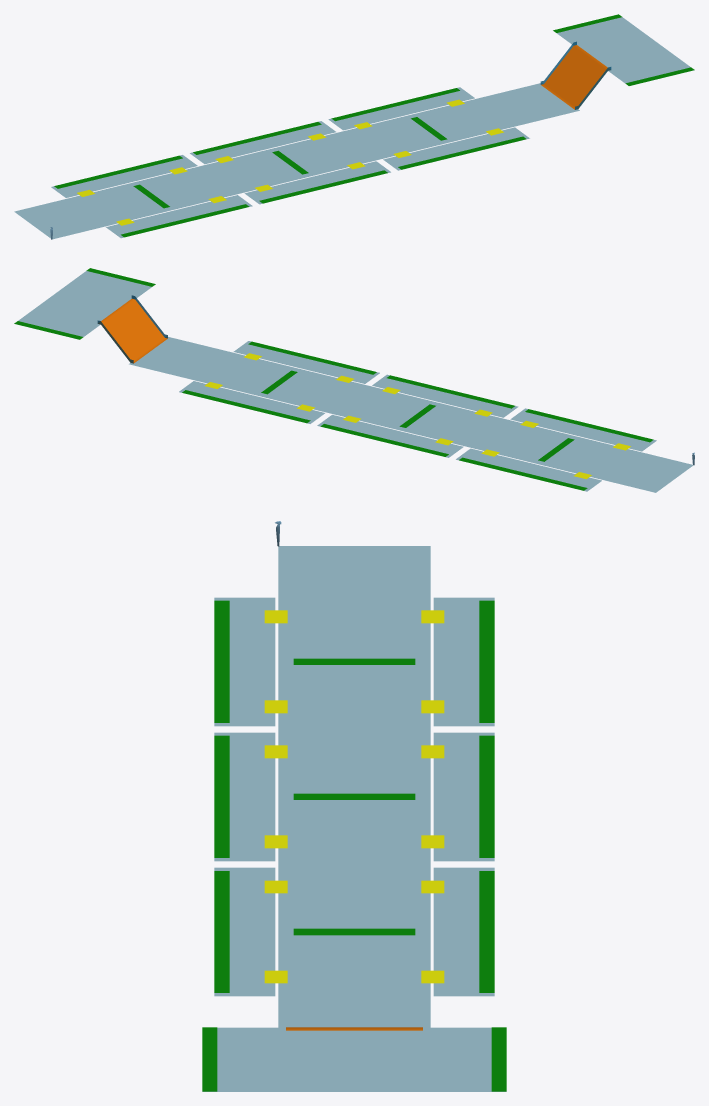
The model's file is WorldGeometry.dae.
3 renders of one model, top to bottom at view 1: azimuth 30°, elevation 25°; view 2: azimuth 150°, elevation 25°; view 3: azimuth 270°, elevation 25°, orthographic. The views are drawn at different scales.
Parts seen in each view (by area): view 1: FloorMesh (×8), PortalMesh (×6), StairMesh; view 2: FloorMesh (×8), PortalMesh (×6), StairMesh; view 3: FloorMesh (×8), PortalMesh (×11).
Boxes of the visible parts, x1,y1,x2,y2 form: FloorMesh (×8): (14,17,690,239); PortalMesh (×6): (54,88,526,237); StairMesh: (541,45,609,109); FloorMesh (×8): (18,271,693,492); PortalMesh (×6): (182,341,653,490); StairMesh: (98,298,167,363); FloorMesh (×8): (202,546,506,1091); PortalMesh (×11): (202,600,506,1091).
Size of the model in its own units: 94.72 by 5 by 20.
